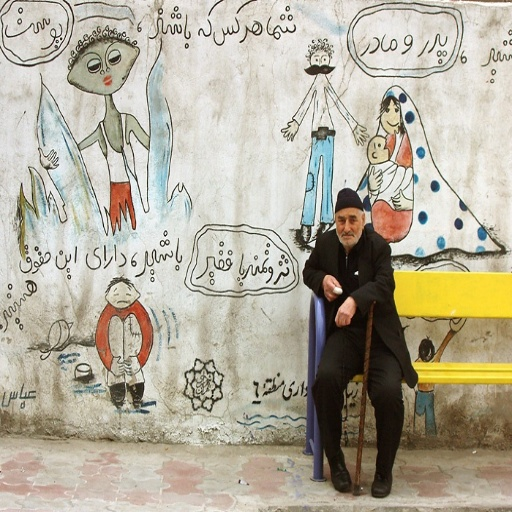hand: (333, 296, 356, 329), (323, 271, 341, 303), (387, 187, 410, 210), (38, 144, 58, 169), (280, 119, 299, 141), (352, 122, 369, 146), (367, 164, 382, 191), (109, 354, 125, 377), (123, 357, 140, 375)
